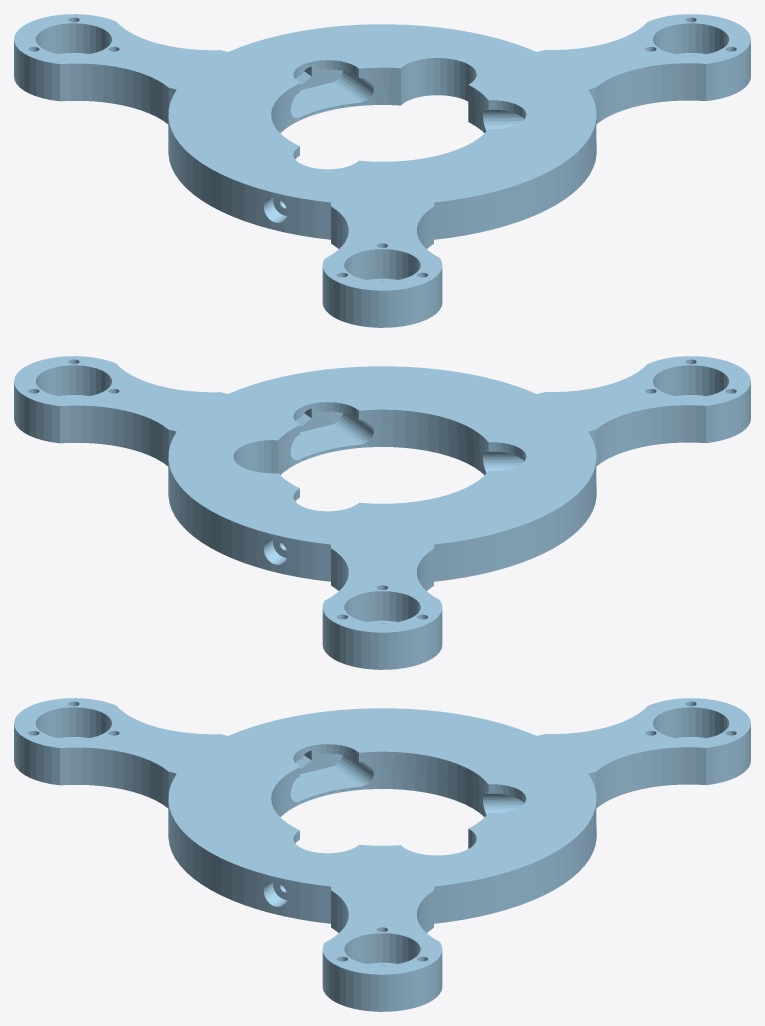
File: IDAbbott_Modified_Tri_Clamp-copy.glb
The picture shows the model from 3 angles, top to bottom: view 1: azimuth 30°, elevation 25°; view 2: azimuth 150°, elevation 25°; view 3: azimuth 270°, elevation 25°; orthographic projection.
Parts seen in each view (by area): view 1: part-0; view 2: part-0; view 3: part-0.
Part boxes in pixels (left/top/right/bottom): part-0: left=14, top=14, right=750, bottom=327; part-0: left=14, top=356, right=750, bottom=669; part-0: left=14, top=698, right=750, bottom=1011.
Bounding box in the file's own units: 191 × 12 × 215.
